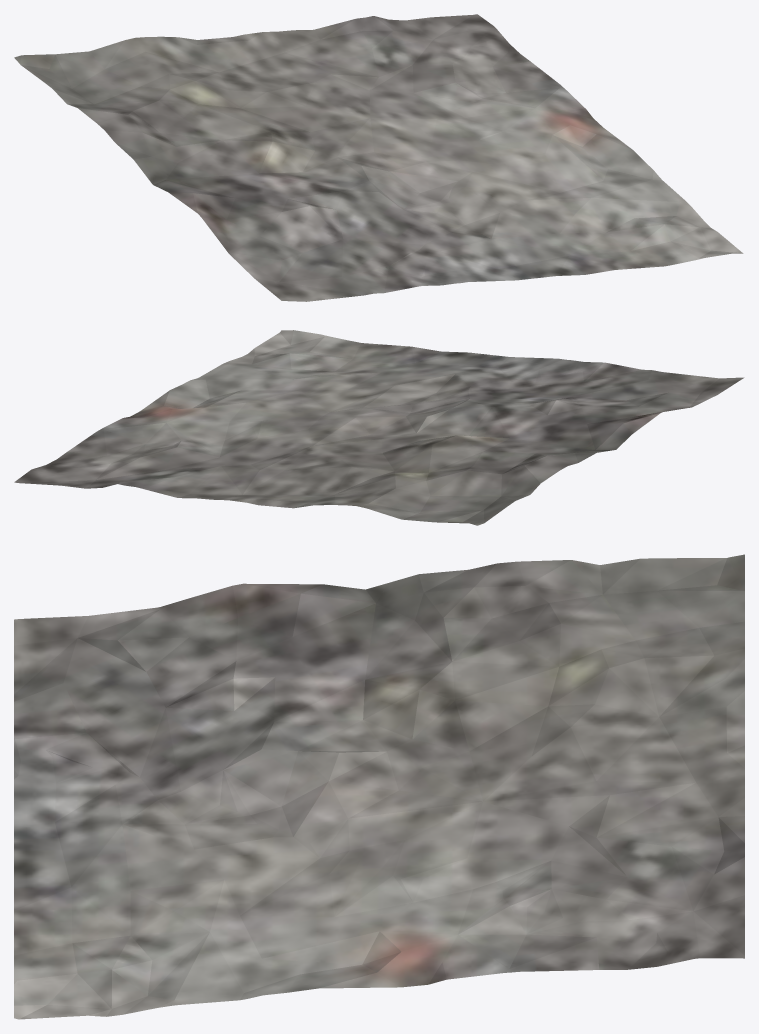
3 renders of one model, top to bottom at view 1: azimuth 30°, elevation 25°; view 2: azimuth 150°, elevation 25°; view 3: azimuth 270°, elevation 25°, orthographic. The views are drawn at different scales.
Size of the model in its own units: 0.8374 by 0.1981 by 0.8374.
Materials: 3 (3 with a texture image).
